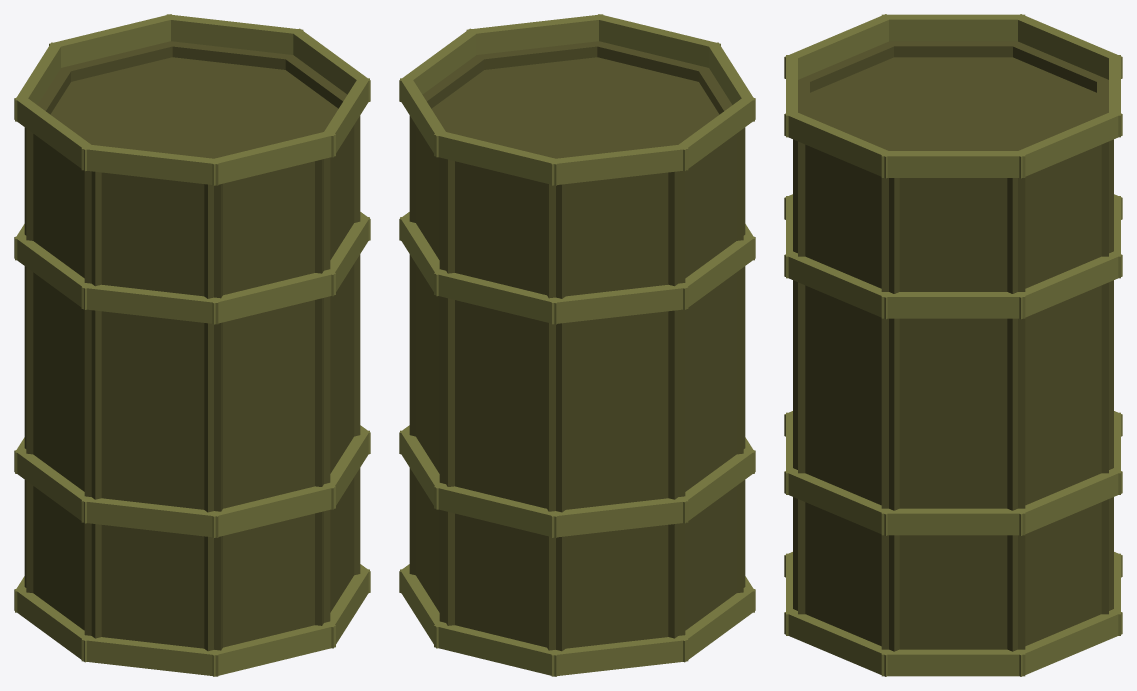
The model's file is vox_barrel.glb.
3 views of the same model, side by side, from view 1: azimuth 30°, elevation 25°; view 2: azimuth 150°, elevation 25°; view 3: azimuth 270°, elevation 25° (orthographic).
Parts seen in each view (by area): view 1: Object_8, Object_11; view 2: Object_8, Object_11; view 3: Object_11, Object_8.
Boxes of the visible parts, x1,y1,x2,y2 form: Object_8: (14, 14, 370, 676); Object_11: (15, 14, 369, 676); Object_8: (399, 14, 755, 676); Object_11: (400, 14, 754, 676); Object_11: (784, 14, 1122, 676); Object_8: (786, 14, 1120, 676).
Bounding box in the file's own units: 0.5303 × 0.9 × 0.5303.
2 materials, 2 textured.
